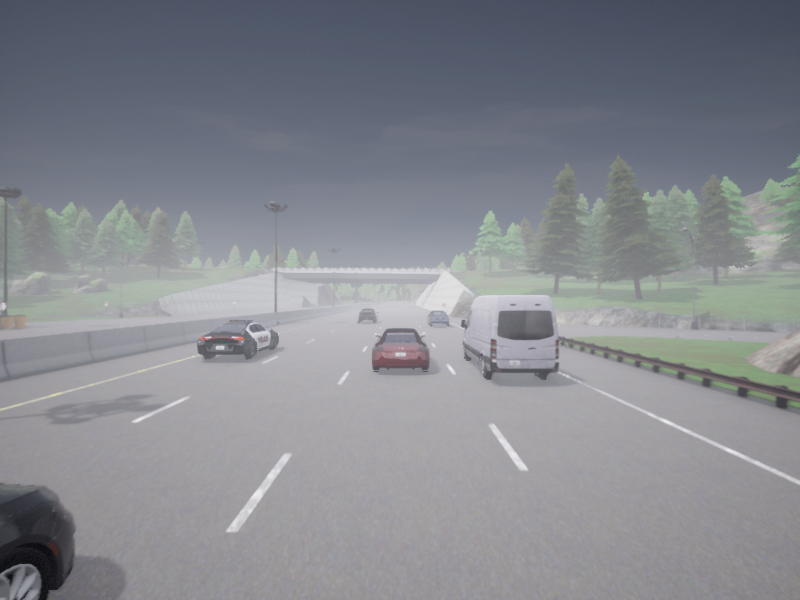vehicle: (0, 483, 74, 599), (461, 295, 558, 378), (197, 320, 277, 358), (372, 328, 429, 371), (426, 311, 449, 325), (358, 308, 378, 322)
